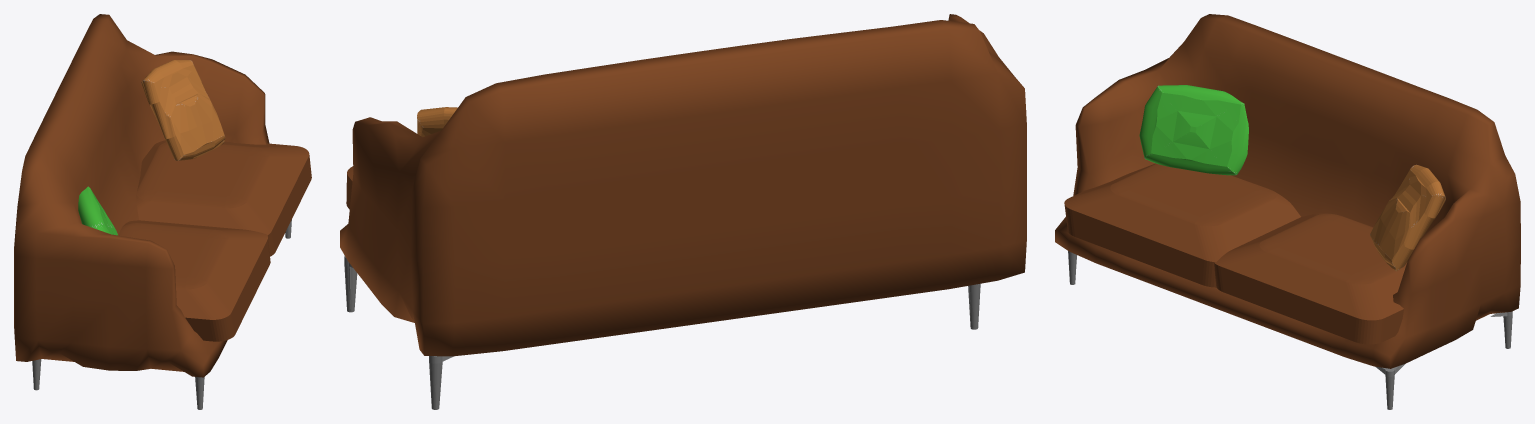
File: patientcouch.fbx
3 views of the same model, side by side, from view 1: azimuth 30°, elevation 25°; view 2: azimuth 150°, elevation 25°; view 3: azimuth 270°, elevation 25° (orthographic). The views are drawn at different scales.
Parts seen in each view (by area): view 1: Cube, pillow, pillow.001, Cylinder; view 2: Cube, Cylinder, pillow; view 3: Cube, pillow.001, pillow, Cylinder.
Part boxes in pixels (x1=…): Cube: x1=14, y1=14, x2=311, y2=377; pillow: x1=141, y1=60, x2=225, y2=160; pillow.001: x1=78, y1=186, x2=117, y2=235; Cylinder: x1=32, y1=219, x2=291, y2=409; Cube: x1=340, y1=14, x2=1026, y2=356; Cylinder: x1=344, y1=255, x2=980, y2=409; pillow: x1=417, y1=107, x2=457, y2=137; Cube: x1=1055, y1=14, x2=1520, y2=368; pillow.001: x1=1139, y1=85, x2=1248, y2=175; pillow: x1=1370, y1=164, x2=1445, y2=271; Cylinder: x1=1068, y1=251, x2=1512, y2=409.
Bounding box in the file's own units: 622 × 345 × 645.
Materials: 4 (4 with a texture image).
